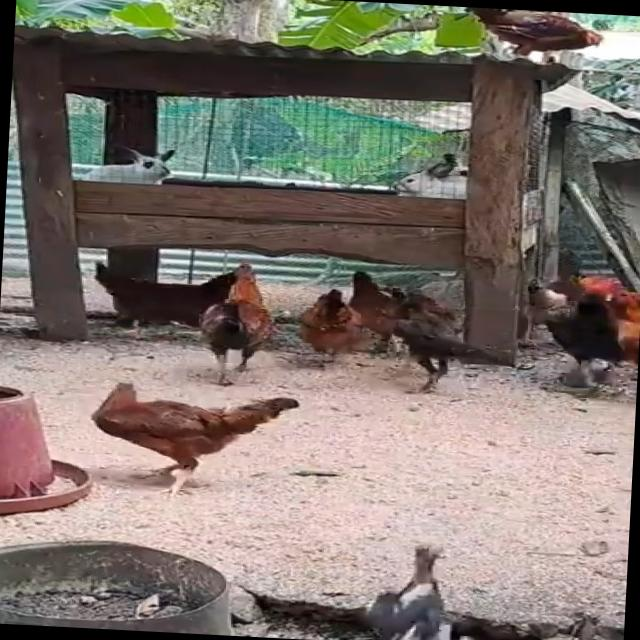running: (50, 368, 326, 501), (371, 287, 468, 403), (186, 270, 288, 378)
